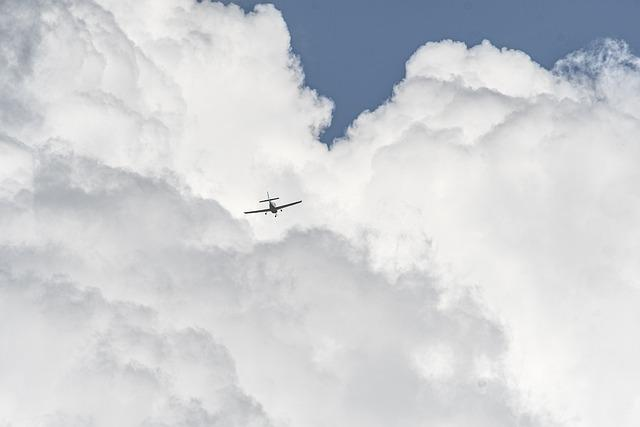Non_Gorille: (9, 6, 588, 369)
